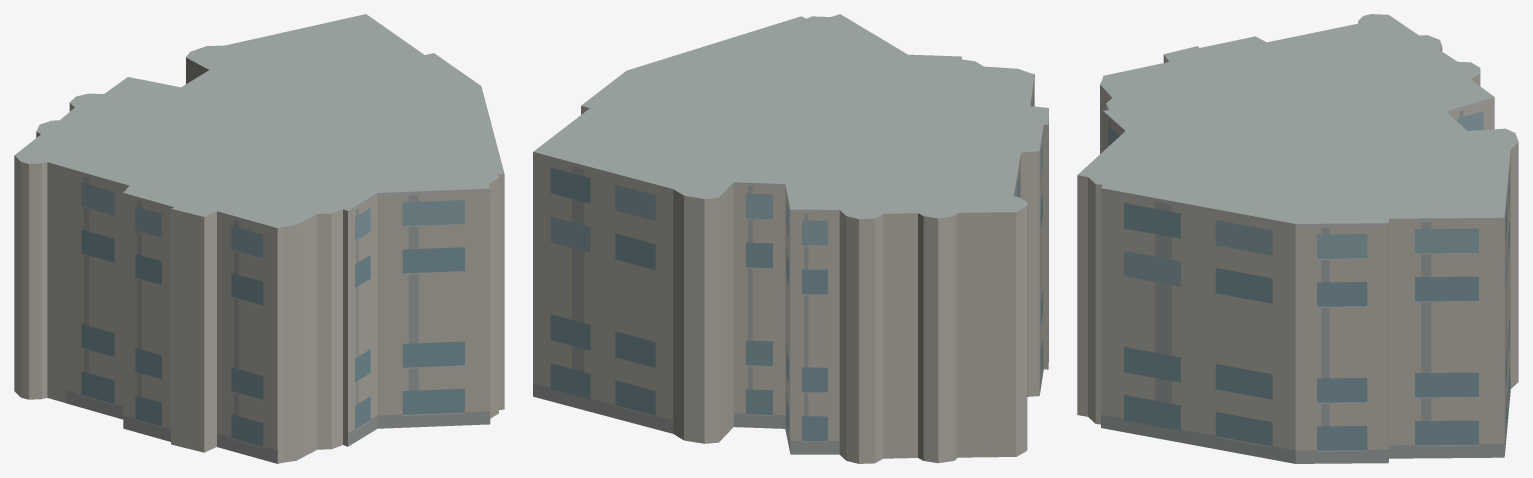
Rendered from survey-upis-32781186.glb.
The picture shows the model from 3 angles, left to right: view 1: azimuth 30°, elevation 25°; view 2: azimuth 150°, elevation 25°; view 3: azimuth 270°, elevation 25°; orthographic projection. The views are drawn at different scales.
Visible parts, largest first — view 1: survey-upis-32781186.tmp; view 2: survey-upis-32781186.tmp; view 3: survey-upis-32781186.tmp.
Boxes of the visible parts, x1,y1,x2,y2 form: survey-upis-32781186.tmp: (14, 14, 504, 463); survey-upis-32781186.tmp: (533, 14, 1048, 463); survey-upis-32781186.tmp: (1077, 14, 1518, 463).
Size of the model in its own units: 28.64 by 15.25 by 25.44.
